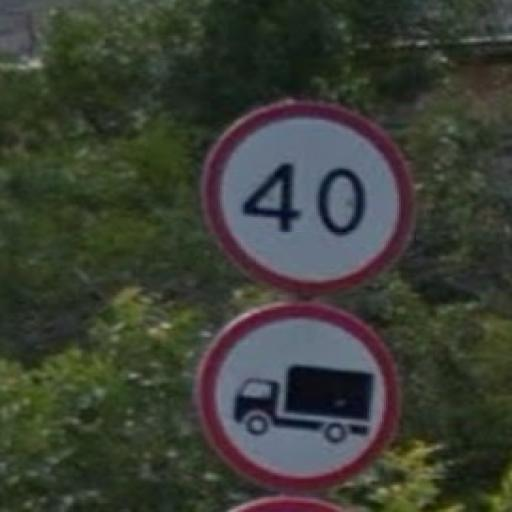traffic_sign: (201, 100, 421, 296), (193, 300, 406, 498)
